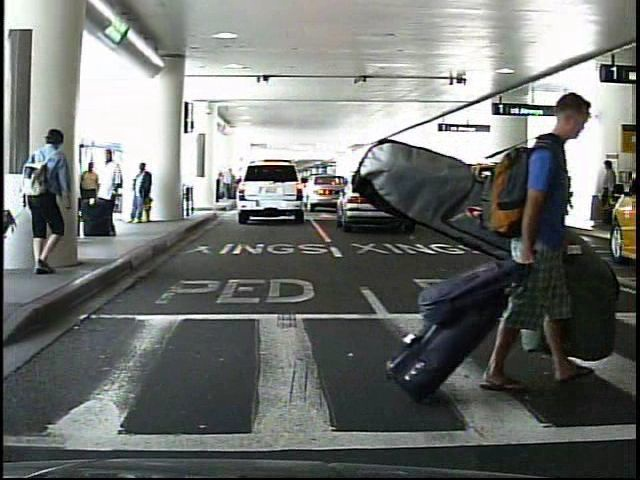person: (482, 86, 593, 391), (20, 128, 68, 275), (94, 146, 122, 239), (129, 161, 155, 228), (595, 158, 618, 226), (77, 158, 98, 231), (560, 170, 571, 215), (557, 164, 558, 212)
